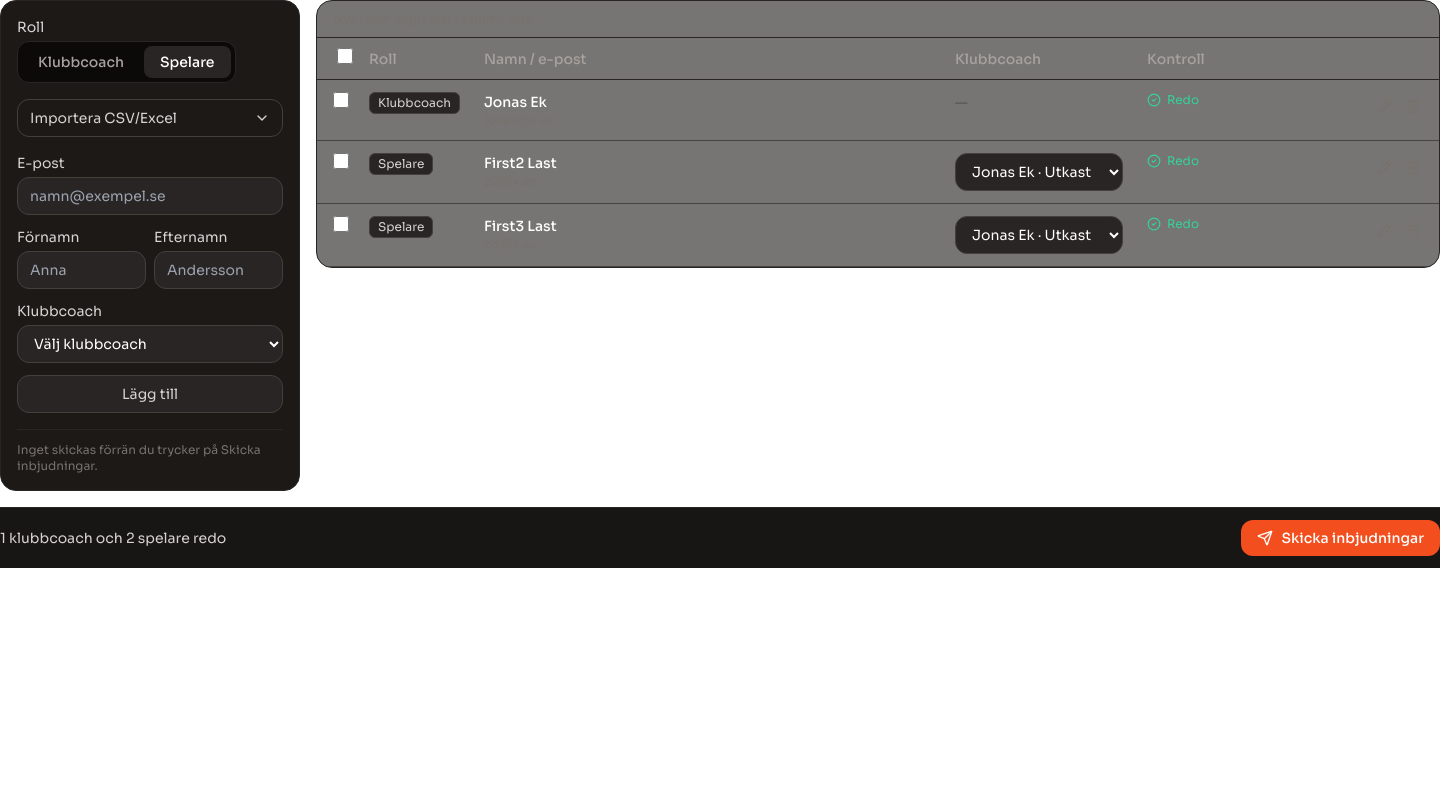
Test: ClubDraftsTab › confirms with counts and the licence outcome, then sends coaches first
What coordinates should you click on to do the following:
click the button "Skicka inbjudningar"
I would click on:
 (1341, 538)
Its box is [1242, 520, 1439, 556].
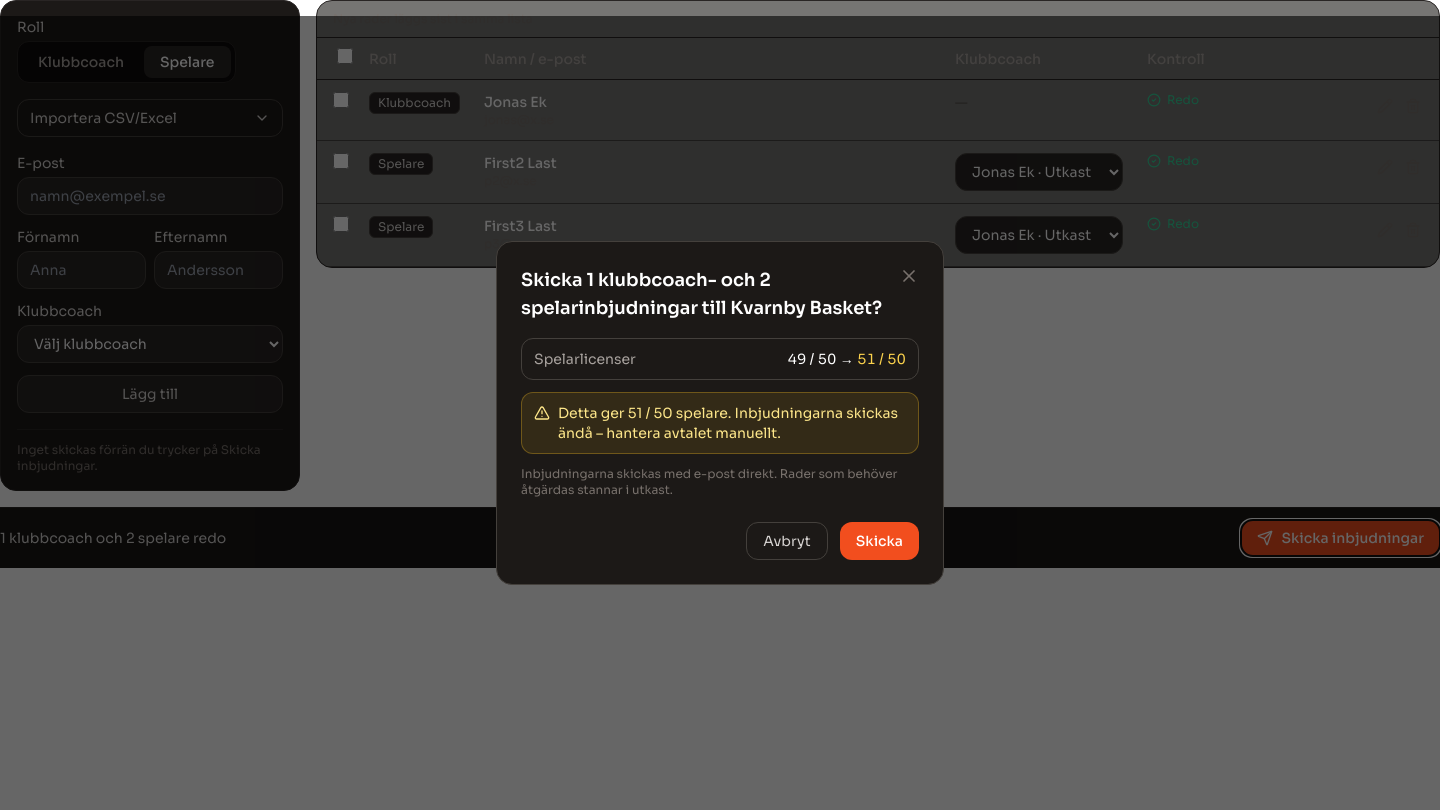
expect the heading "Skicka 1 klubbcoach- och 2 spelarinbjudningar till Kvarnby Basket?" is shown: met, box [521, 266, 883, 322]
expect the text "Detta ger 51 / 50 spelare" is shown: met, box [521, 392, 919, 454]
What coordinates should you click on to do the following:
click the button "Skicka"
I would click on:
 (879, 541)
Its box is [840, 522, 919, 560].
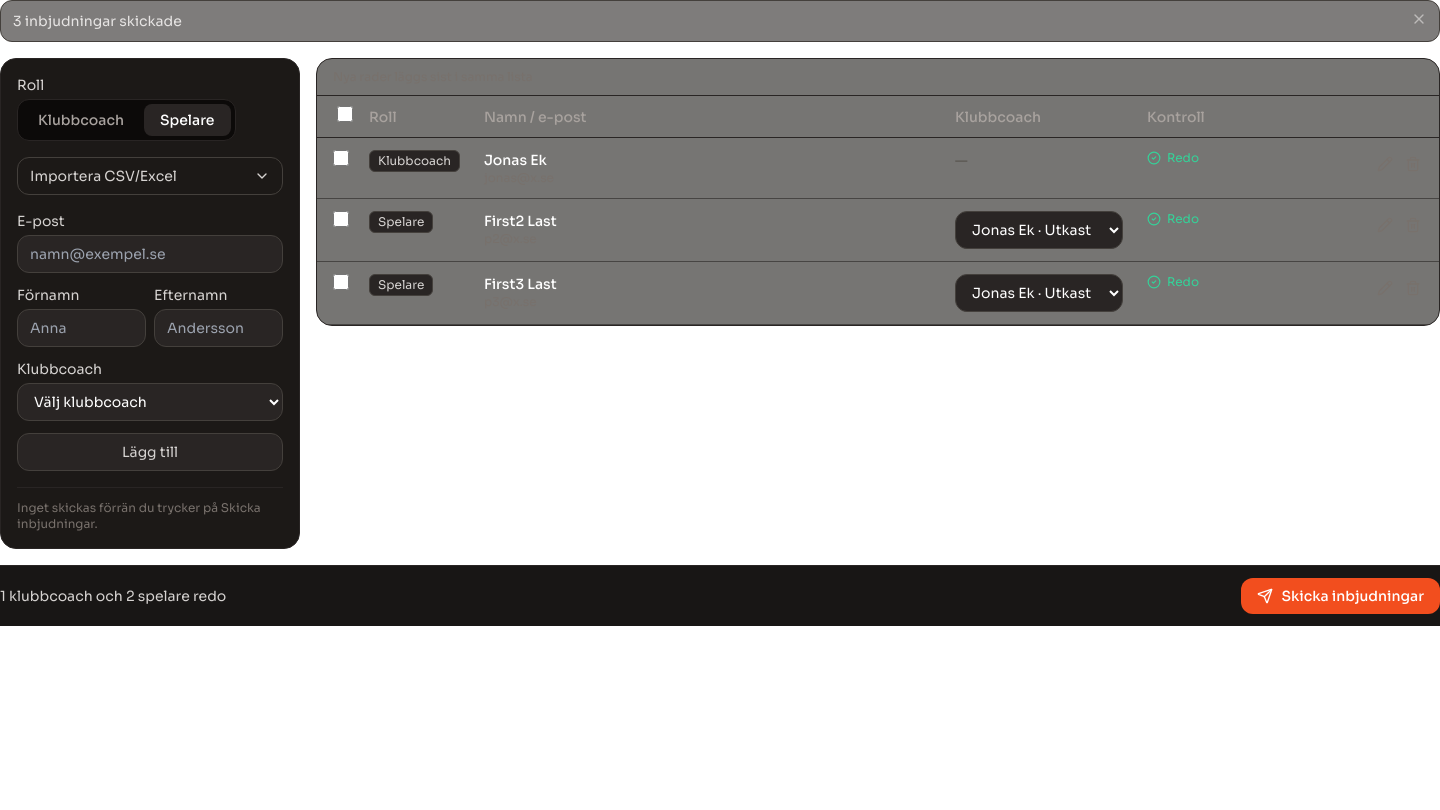
expect the text "3 inbjudningar skickade" is shown: met, box [13, 11, 182, 31]
